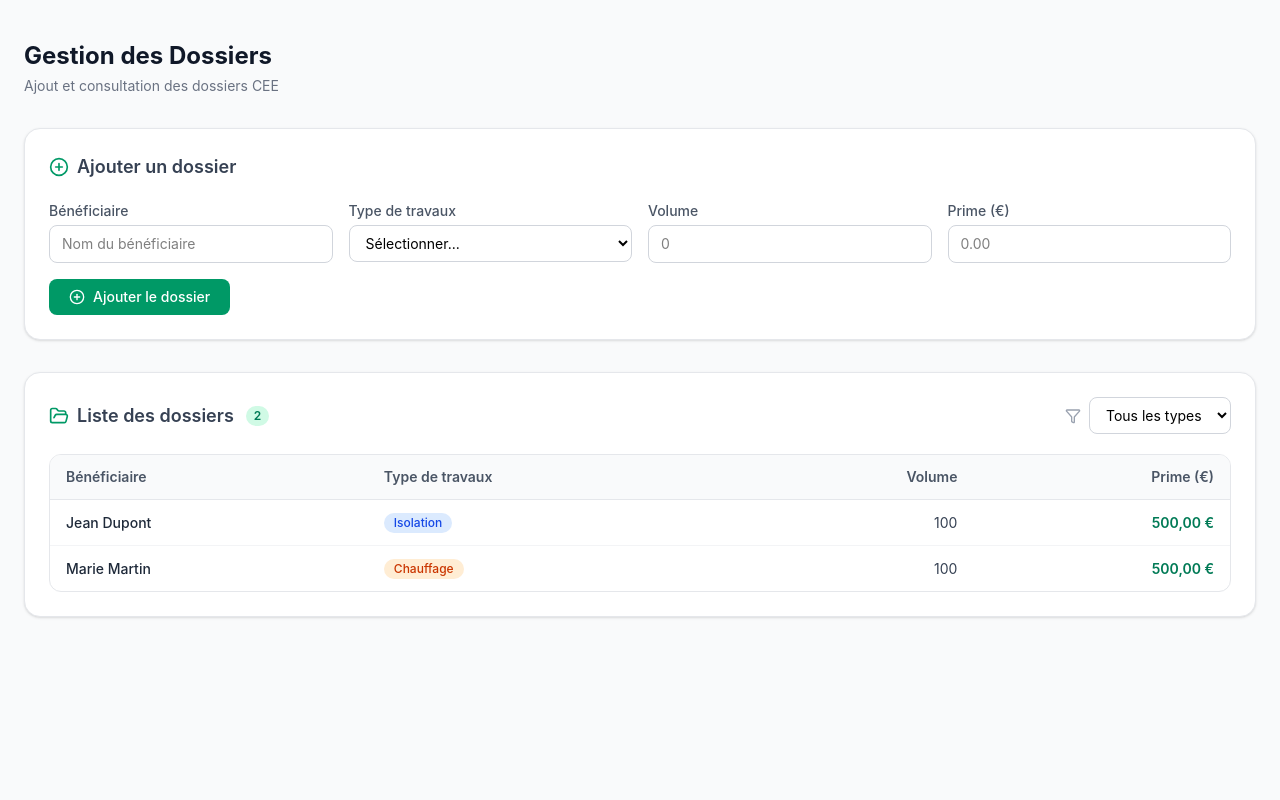
Test: GestionDossiers › le filtre par type réduit la liste affichée
Expected: the text "Jean Dupont" is shown, [50,500,368,546]
Expected: the text "Marie Martin" is shown, [50,546,368,591]
Select "Isolation" in the dropdown in the row of "Liste des dossiers" at (1160, 416), box [1089,397,1231,434]
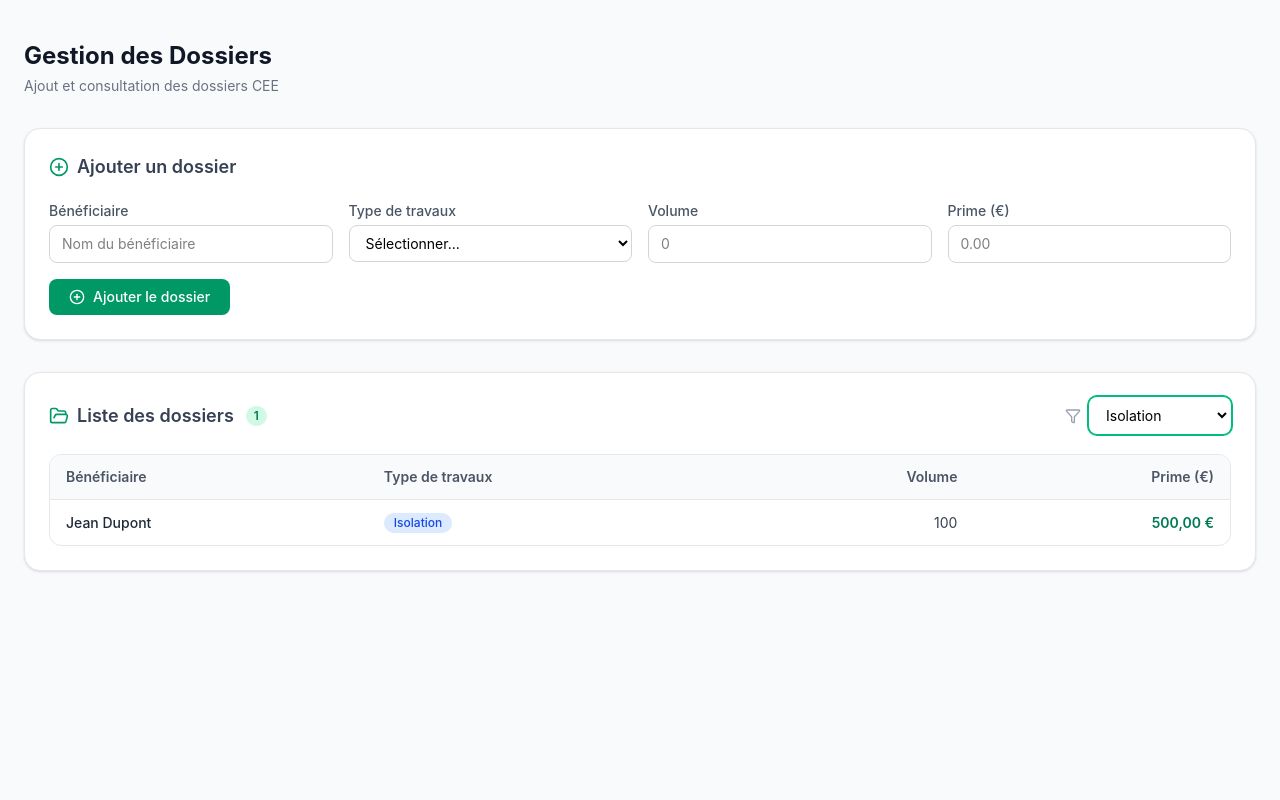
Expected: the text "Jean Dupont" is shown, [50,500,368,545]
Result: the text "Marie Martin" is gone
